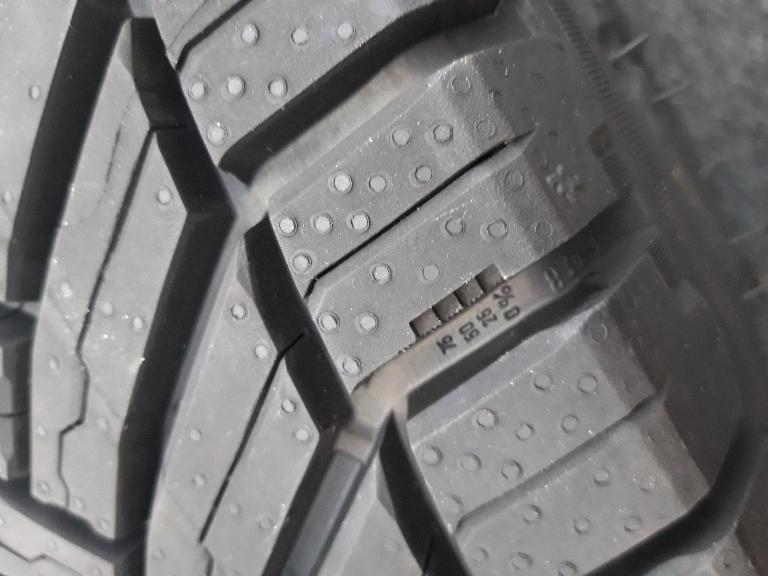temoin:100: (393, 258, 514, 360)
